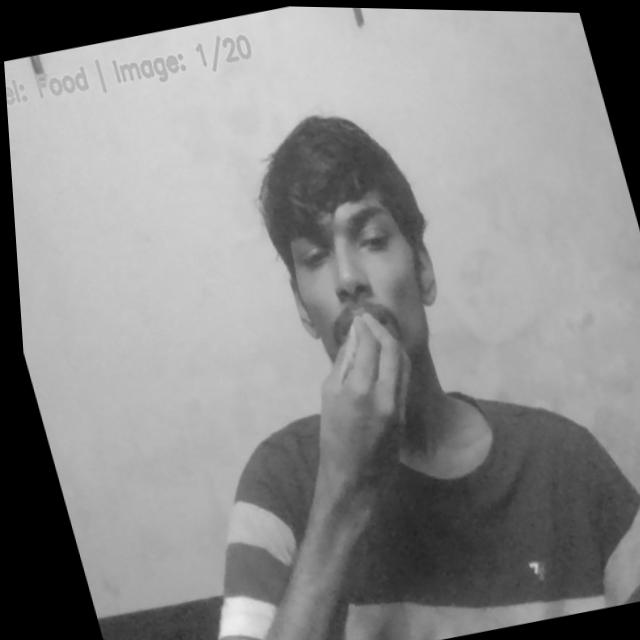Food: (264, 295, 449, 503)
